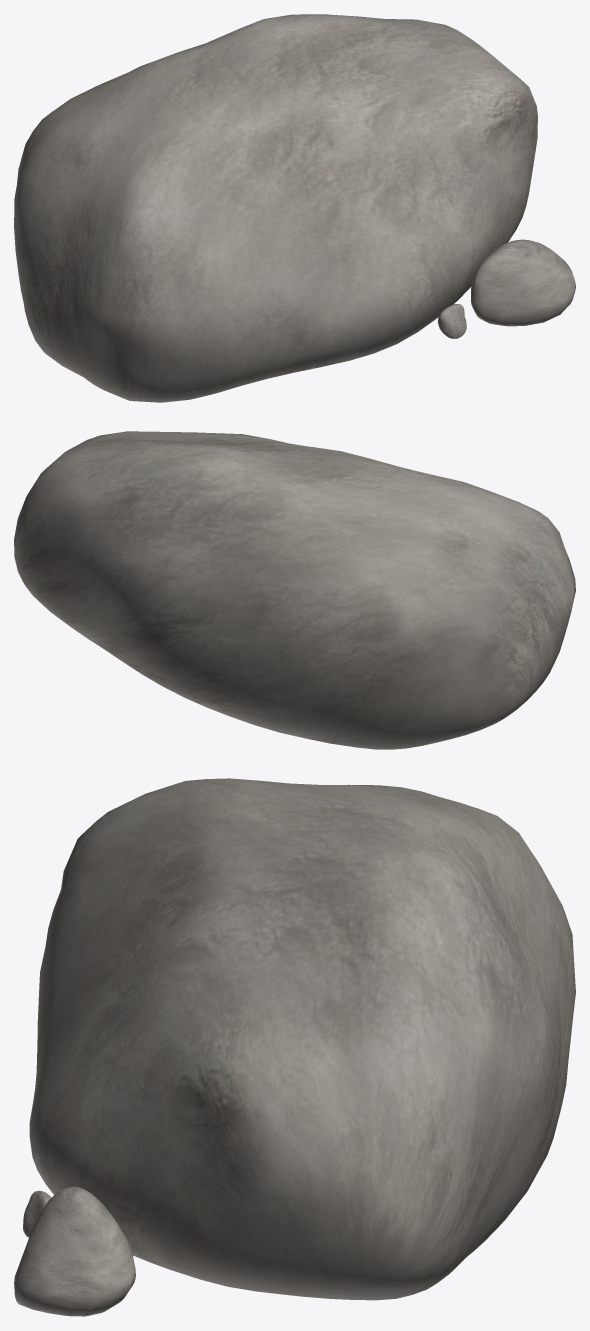
The model's file is meteor_fragment.glb.
3 renders of one model, top to bottom at view 1: azimuth 30°, elevation 25°; view 2: azimuth 150°, elevation 25°; view 3: azimuth 270°, elevation 25°, orthographic. The views are drawn at different scales.
Visible parts, largest first — view 1: pSphere2_lambert2_0; view 2: pSphere2_lambert2_0; view 3: pSphere2_lambert2_0.
Boxes of the visible parts, <box> form: pSphere2_lambert2_0: <box>14,14,575,402</box>; pSphere2_lambert2_0: <box>14,431,575,749</box>; pSphere2_lambert2_0: <box>14,778,575,1316</box>.
Bounding box in the file's own units: 0.0251 × 0.0128 × 0.0166.
1 material, 1 textured.
